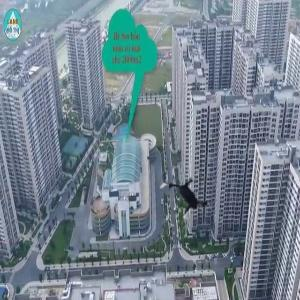drone: (155, 167, 220, 232)
